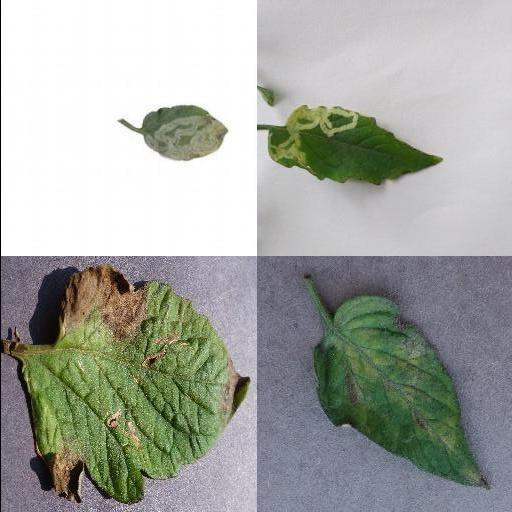Late Blight: (16, 264, 248, 506)
Leaf Miner: (266, 102, 440, 188), (140, 106, 228, 163)
Leaf Mold: (312, 296, 492, 490)
